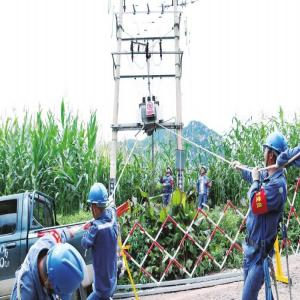blue: (42, 243, 86, 297), (262, 130, 291, 178), (87, 182, 111, 220), (201, 165, 208, 177), (167, 167, 173, 177)
